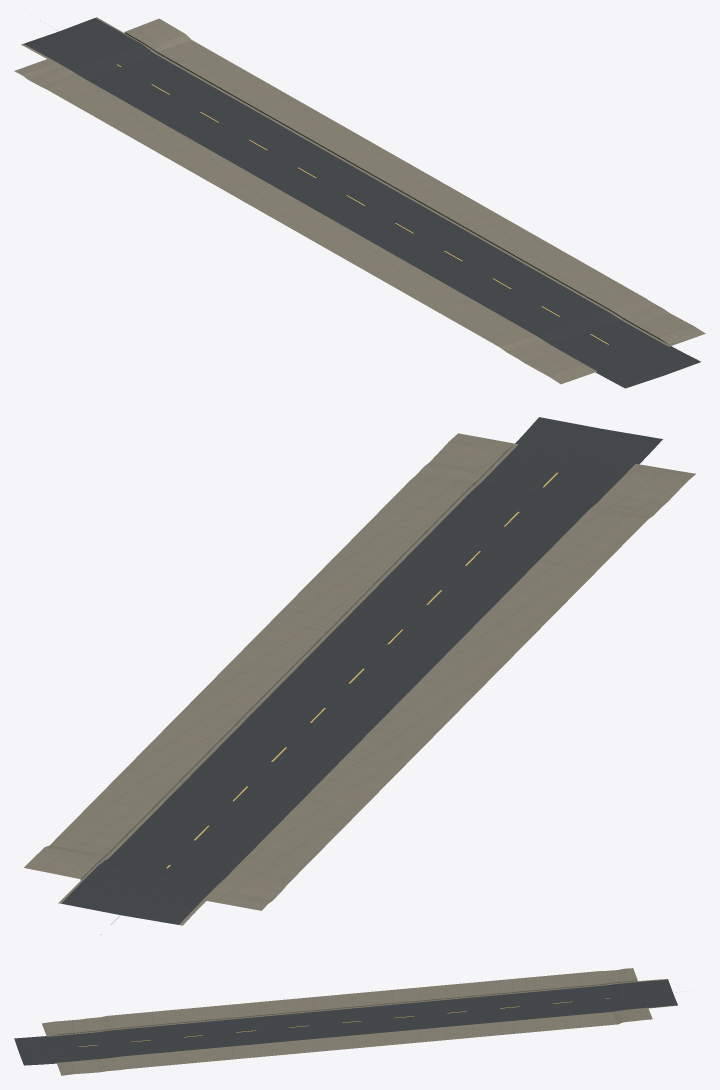
3 renders of one model, top to bottom at view 1: azimuth 30°, elevation 25°; view 2: azimuth 150°, elevation 25°; view 3: azimuth 270°, elevation 25°, orthographic. The views are drawn at different scales.
Visible parts, largest first — view 1: Carriageway, Clipped sidewalks with lowered crossing approaches, Concrete drainage margins, Raised curb faces; view 2: Carriageway, Clipped sidewalks with lowered crossing approaches, Concrete drainage margins, Raised curb faces; view 3: Carriageway, Clipped sidewalks with lowered crossing approaches, Concrete drainage margins, Raised curb faces, Inferred center markings.
Part boxes in pixels (left/top/right/bottom): Carriageway: left=23, top=18, right=700, bottom=388; Clipped sidewalks with lowered crossing approaches: left=14, top=18, right=705, bottom=384; Concrete drainage margins: left=21, top=17, right=670, bottom=372; Raised curb faces: left=124, top=32, right=668, bottom=344; Carriageway: left=61, top=417, right=662, bottom=934; Clipped sidewalks with lowered crossing approaches: left=24, top=433, right=695, bottom=910; Concrete drainage margins: left=58, top=443, right=638, bottom=925; Raised curb faces: left=80, top=445, right=512, bottom=901; Carriageway: left=14, top=979, right=677, bottom=1065; Clipped sidewalks with lowered crossing approaches: left=42, top=968, right=652, bottom=1075; Concrete drainage margins: left=46, top=979, right=677, bottom=1063; Raised curb faces: left=48, top=980, right=637, bottom=1035; Inferred center markings: left=78, top=998, right=609, bottom=1046.
Bounding box in the file's own units: 32.49 × 3.2 × 104.
